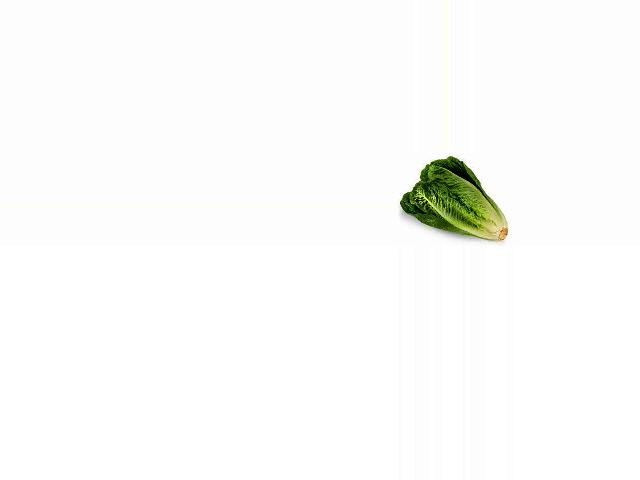lettuce: (400, 157, 515, 243)
